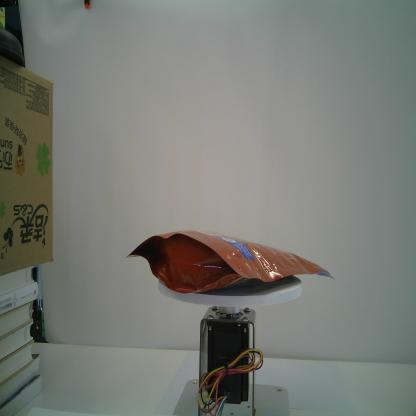Dried Food: (126, 225, 336, 293)
